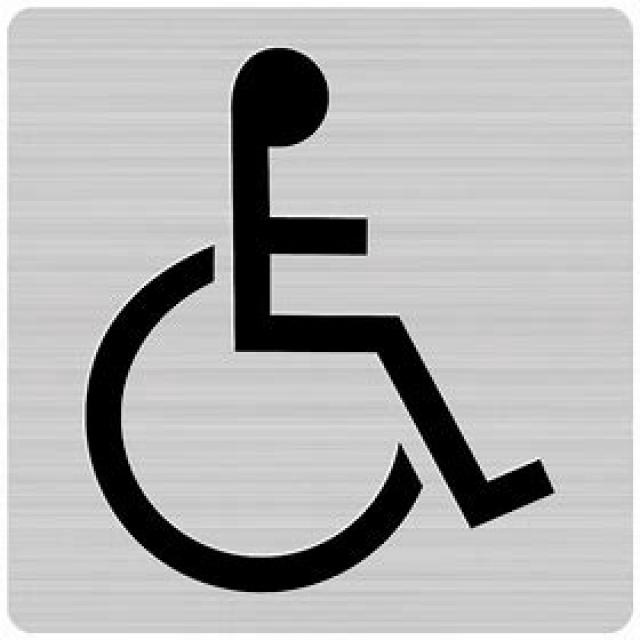ISA: (84, 41, 562, 596)
